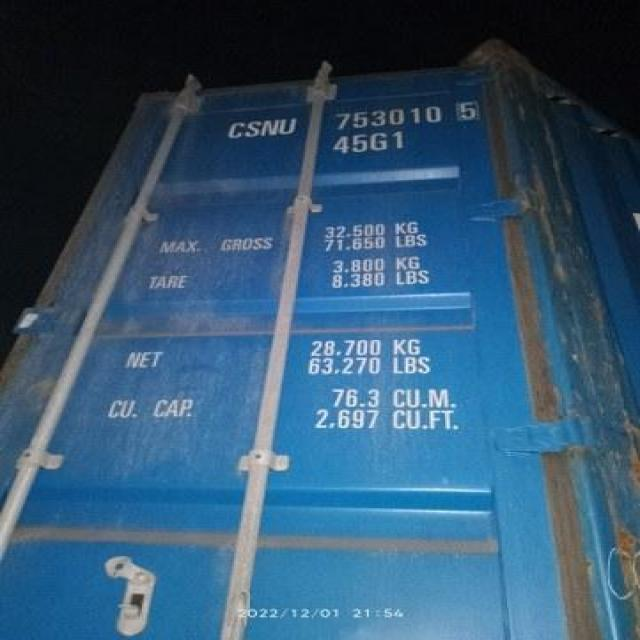container_number_h: (188, 83, 525, 180)
